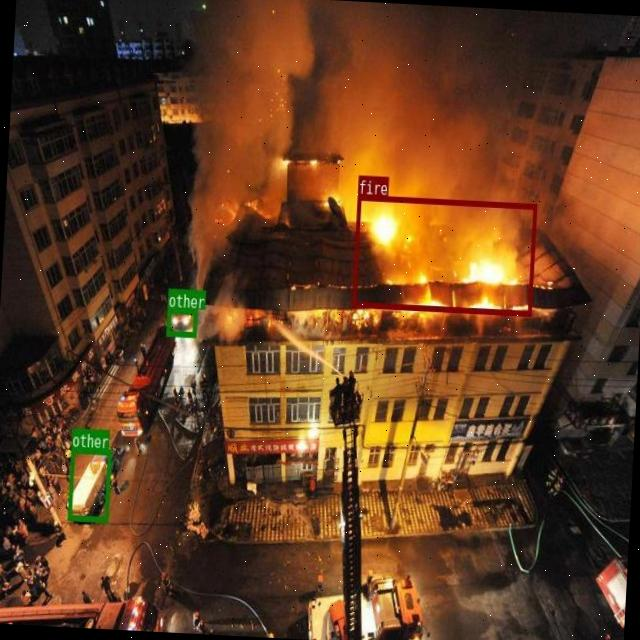fire: (352, 194, 536, 316)
